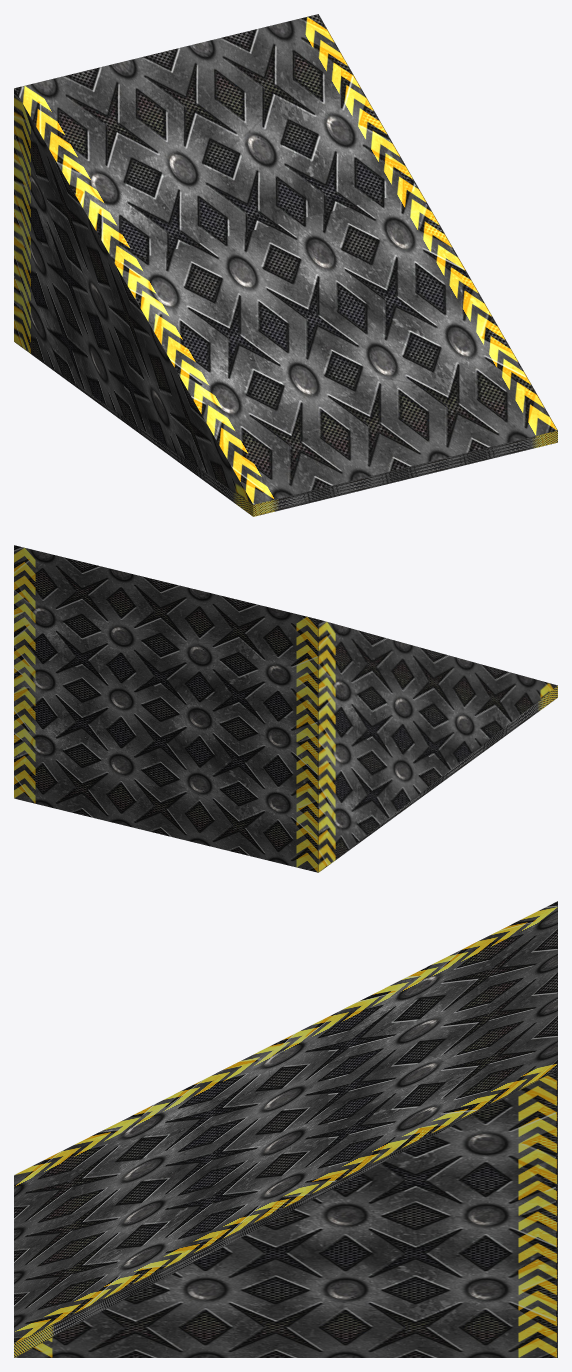
Rendered from just ramp.FBX.
The picture shows the model from 3 angles, top to bottom: view 1: azimuth 30°, elevation 25°; view 2: azimuth 150°, elevation 25°; view 3: azimuth 270°, elevation 25°; orthographic projection. The views are drawn at different scales.
Parts seen in each view (by area): view 1: Box001; view 2: Box001; view 3: Box001.
Part boxes in pixels (x1,y1,x2,y2): Box001: (14, 14, 557, 516); Box001: (14, 545, 557, 872); Box001: (14, 901, 557, 1357).
Bounding box in the file's own units: 40.23 × 31.98 × 54.75.
Materials: 1 (1 with a texture image).
